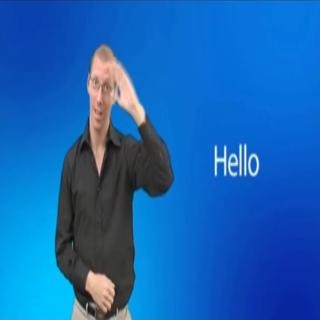Hello: (52, 41, 176, 320)
